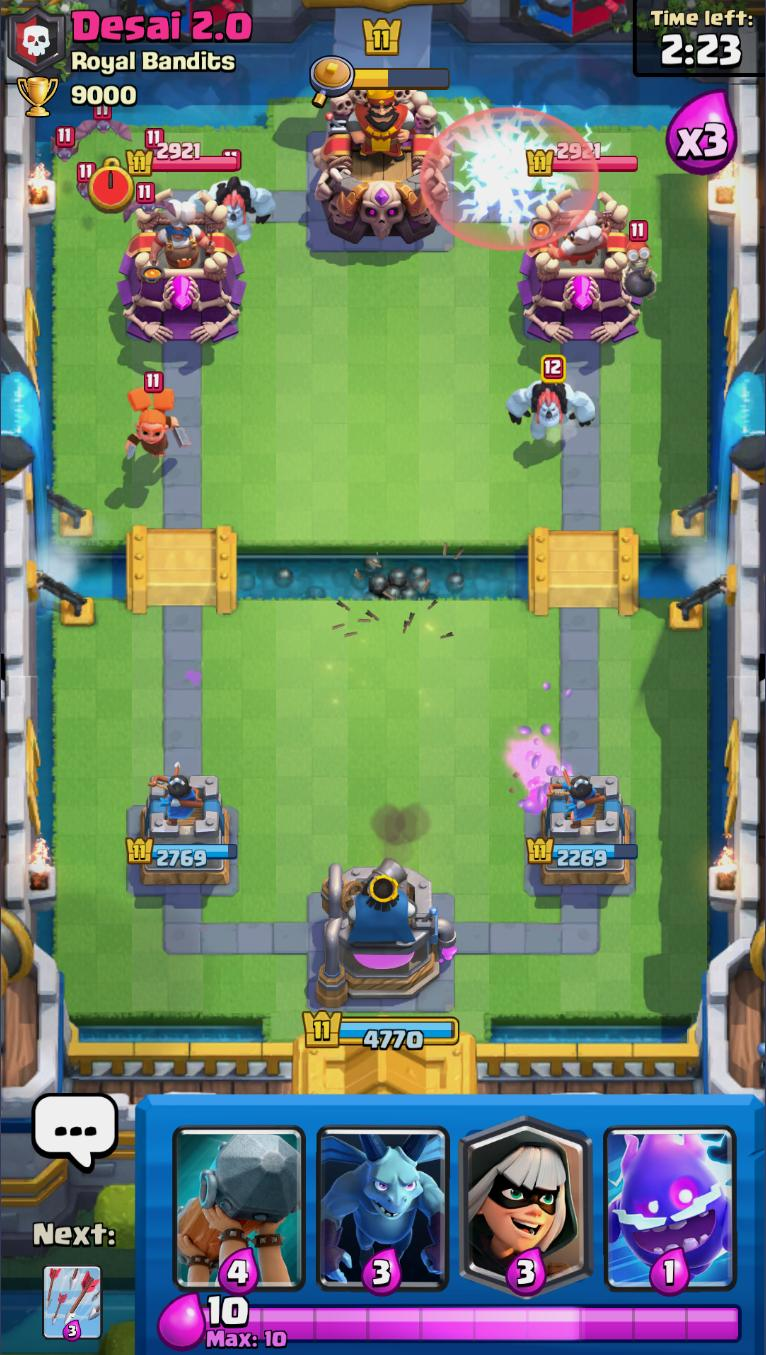ArrowNext: (41, 1261, 103, 1344)
BanditDeck: (454, 1097, 600, 1300)
Bat: (74, 106, 136, 143), (123, 183, 176, 220), (46, 123, 84, 164), (73, 161, 99, 201)
BattleRamDeck: (164, 1096, 310, 1296)
Berserker: (126, 370, 190, 469)
Bomber: (620, 219, 663, 306)
Chef: (139, 197, 224, 280), (540, 209, 616, 273)
ElectroSpiritDeck: (597, 1096, 747, 1299)
Elixir: (202, 1296, 742, 1349)
EnemyTower: (117, 189, 247, 349), (519, 189, 643, 346)
IceGolem: (506, 353, 600, 446), (201, 150, 274, 243)
MinionsDeck: (310, 1097, 454, 1297)
MyKingHP: (300, 1007, 463, 1053)
MyKingTower: (306, 859, 459, 1010)
MyPrincessTower: (126, 773, 239, 896), (527, 776, 637, 896)
MyPrincessTowerHP: (123, 833, 240, 871), (527, 834, 641, 870)
TowerPrincessHP: (526, 140, 640, 176), (127, 141, 239, 176)
Zap: (420, 107, 597, 253)
